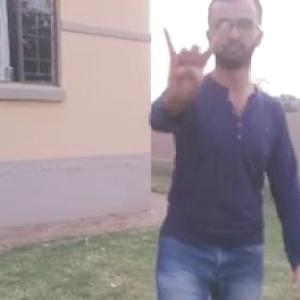takeoff-hand: (156, 23, 232, 109)
